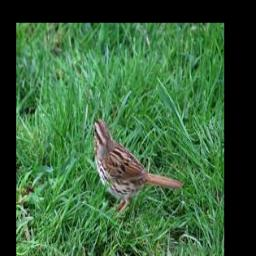Sparrow: (89, 113, 184, 217)
